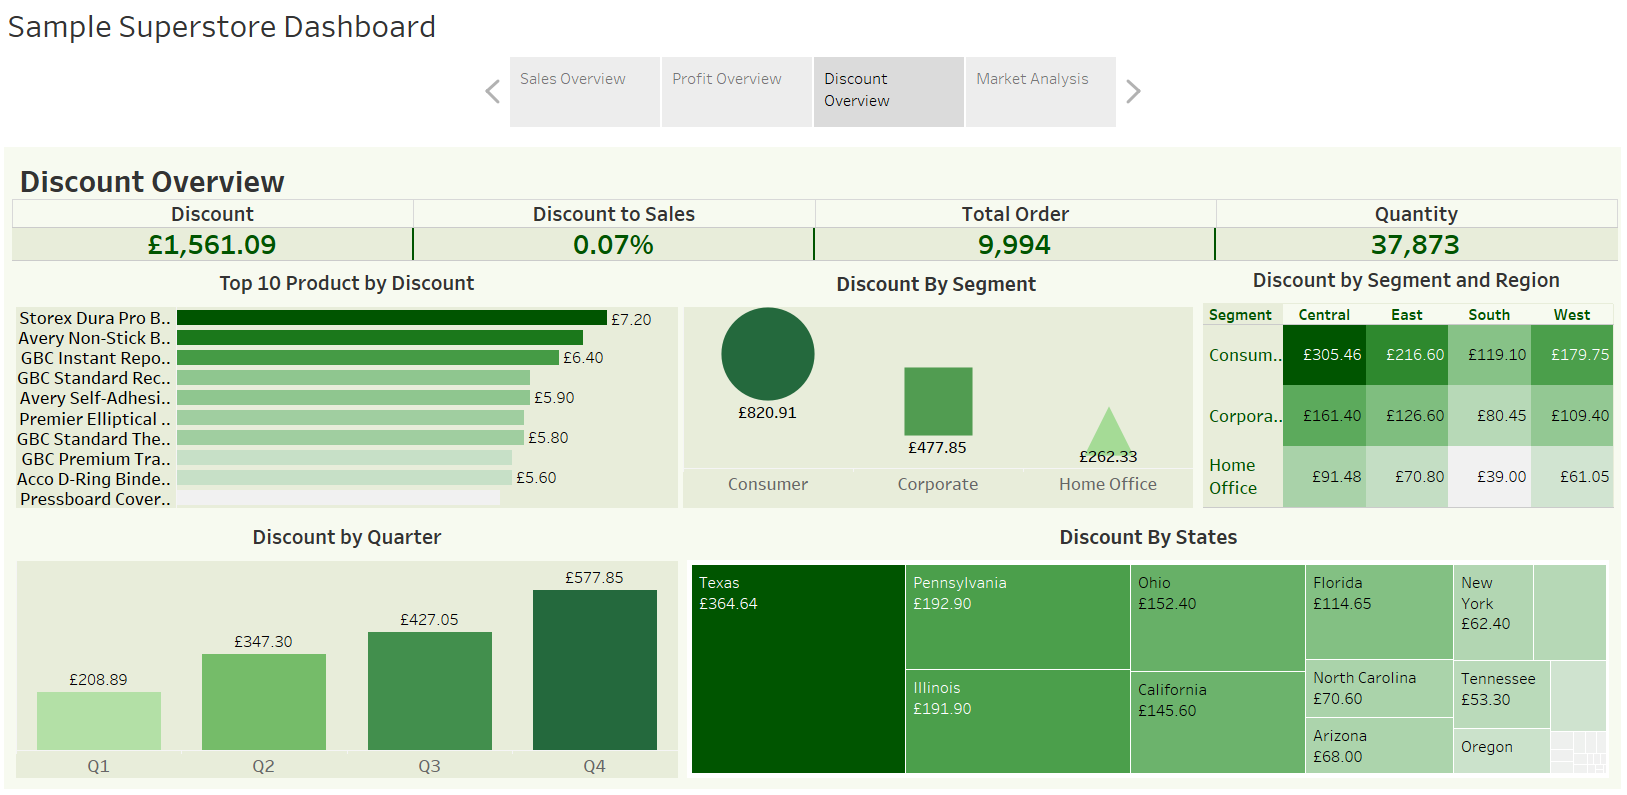

The page's visual inventory and layout, read from the dashboard file:
{"tool":"tableau","page":{"name":"Discount Overview ","canvas":[1000,1000],"units":"permille","ordinal":0},"visuals":[{"type":"title","box":[4.2,8.8,991.7,54.2]},{"type":"worksheet","title":"Discount KPI ","mark":"Automatic","box":[4.8,81.2,992.8,96.1]},{"type":"worksheet","title":"Discount by Segment and Region ","mark":"Square","rows":["Segment"],"cols":["Region"],"box":[741.1,177.3,254.1,384.5]},{"type":"worksheet","title":"Top 10 Product by Discount","mark":"Automatic","rows":["Product Name"],"cols":["Discount"],"box":[7.2,182.3,409.2,379.5]},{"type":"worksheet","title":"Discount By Segment ","mark":"Shape","rows":["Discount"],"cols":["Segment"],"box":[419.4,183.5,315.6,378.3]},{"type":"worksheet","title":"Discount by Quarter","mark":"Bar","rows":["Discount"],"cols":["Order Date"],"box":[7.2,578,409.2,404.5]},{"type":"worksheet","title":"Discount By States ","mark":"Automatic","box":[421.9,578,570.3,405.7]}]}

Visuals, with their boxes on the dashboard's canvas, which has no fixed pixel size, in thousandths of its width and height (x1, y1, x2, y2). These are canvas units, not pixel positions in the 1627x795 screenshot, which may show the page scaled, cropped or inside an application window:
title: (4,9,996,63)
"Discount KPI " worksheet: (5,81,998,177)
"Discount by Segment and Region " worksheet (Square marks): (741,177,995,562)
"Top 10 Product by Discount" worksheet: (7,182,416,562)
"Discount By Segment " worksheet (Shape marks): (419,184,735,562)
"Discount by Quarter" worksheet (Bar marks): (7,578,416,982)
"Discount By States " worksheet: (422,578,992,984)
